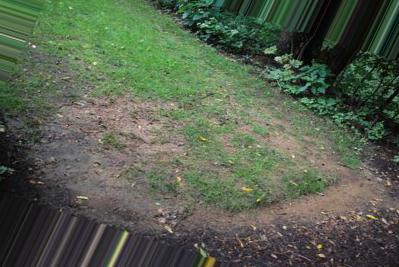patch: (59, 150, 185, 197), (218, 181, 359, 222), (69, 94, 148, 144), (175, 114, 262, 148), (281, 117, 327, 165)
